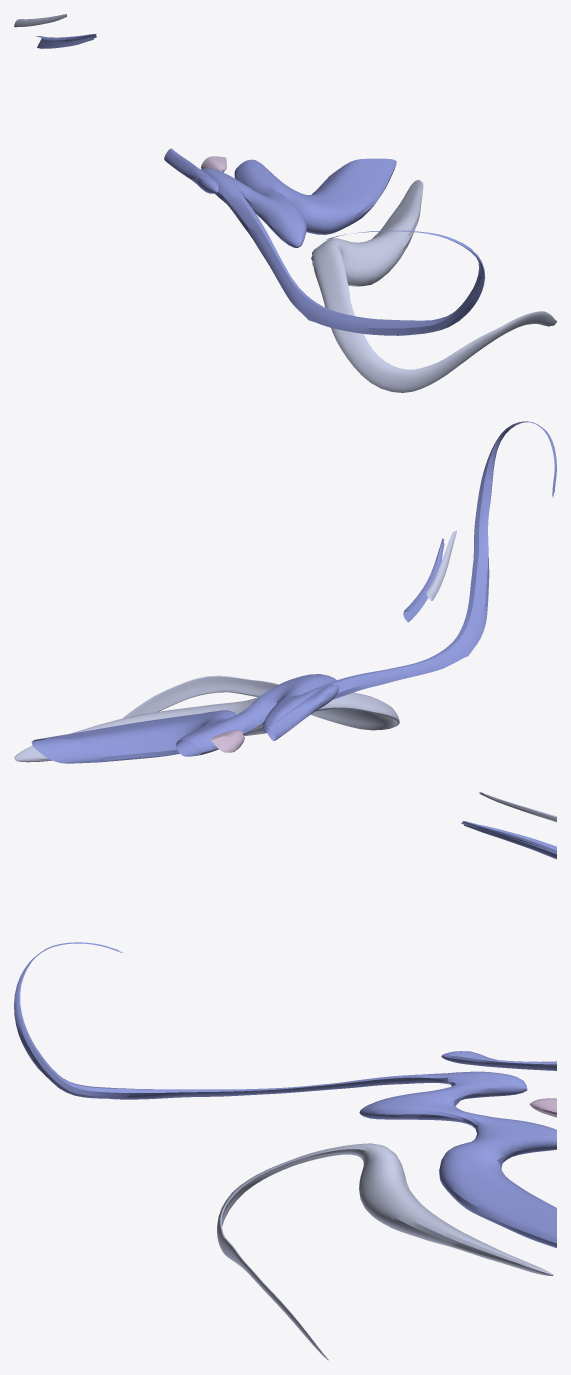
Rendered from SM_Butterfly_Behind_RB_8.fbx.
The picture shows the model from 3 angles, top to bottom: view 1: azimuth 30°, elevation 25°; view 2: azimuth 150°, elevation 25°; view 3: azimuth 270°, elevation 25°; orthographic projection. The views are drawn at different scales.
Visible parts, largest first — view 1: 8; view 2: 8; view 3: 8.
Part boxes in pixels (x1,y1,x2,y2): 8: (14, 14, 556, 392); 8: (14, 421, 556, 763); 8: (14, 792, 556, 1360).
Size of the model in its own units: 127 by 100 by 136.
